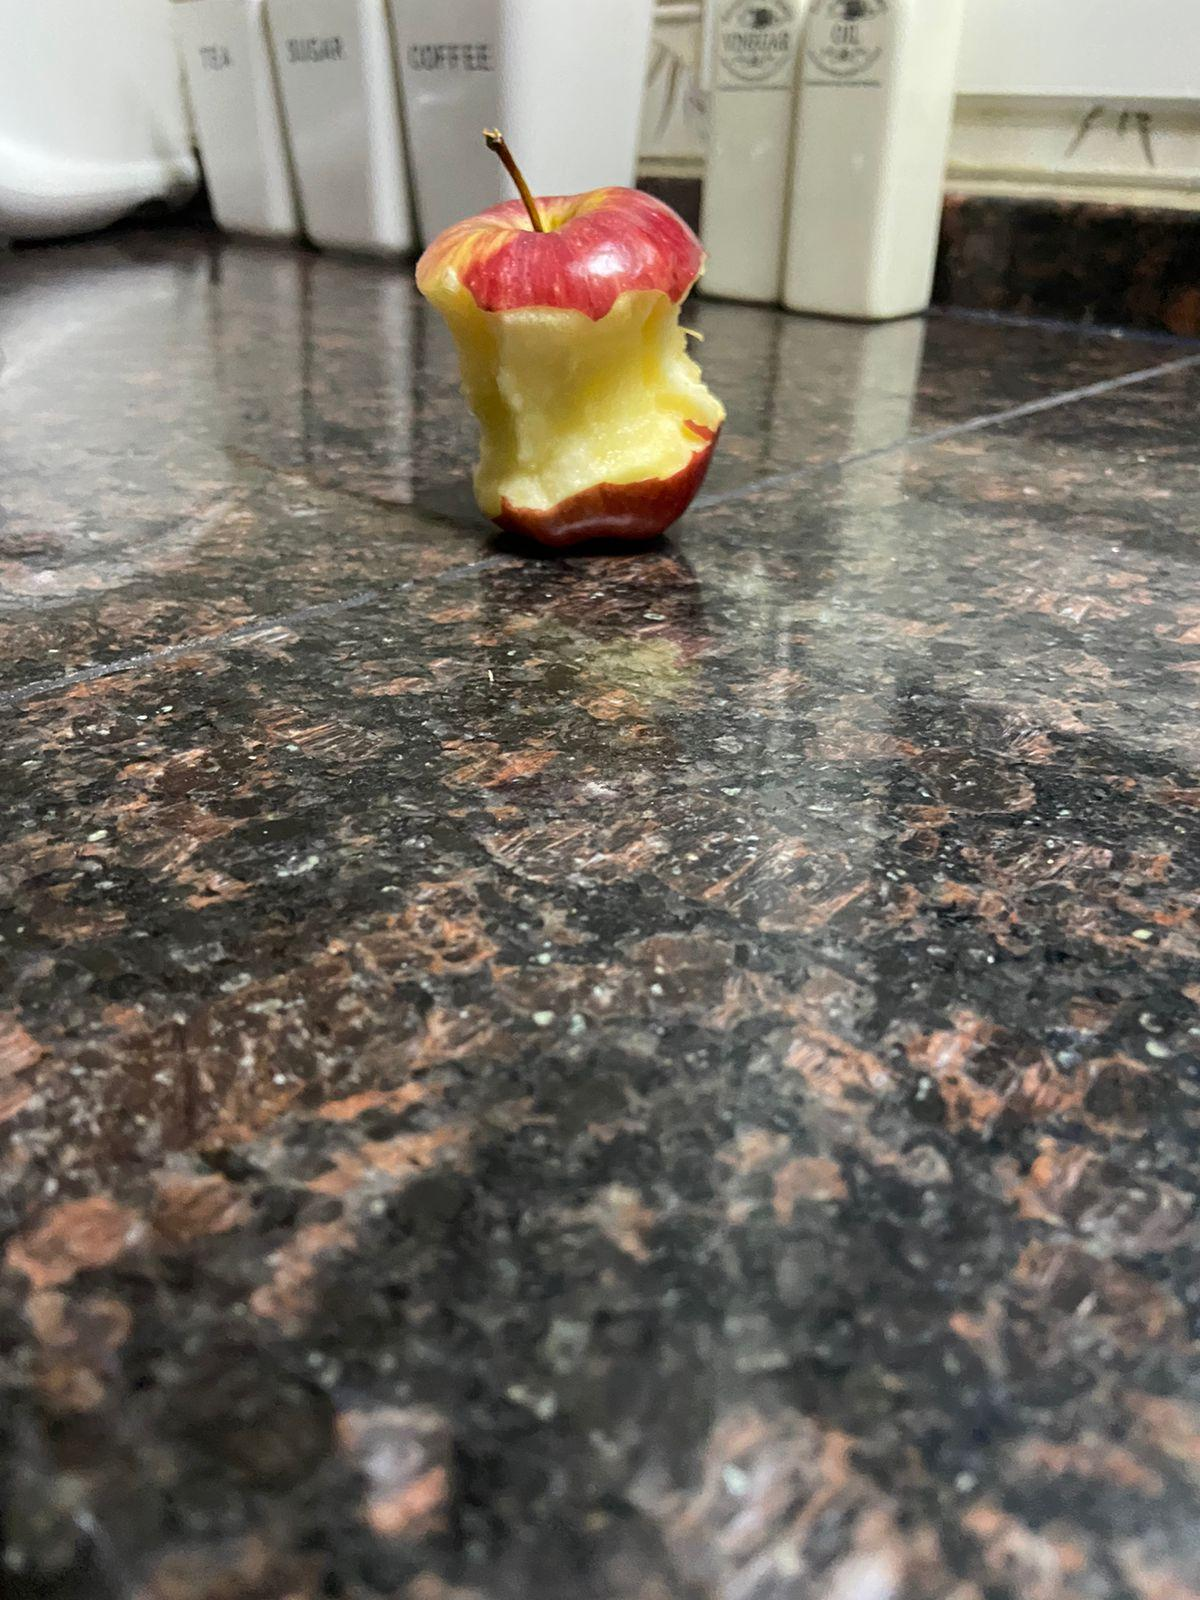Apple: (398, 123, 740, 549)
